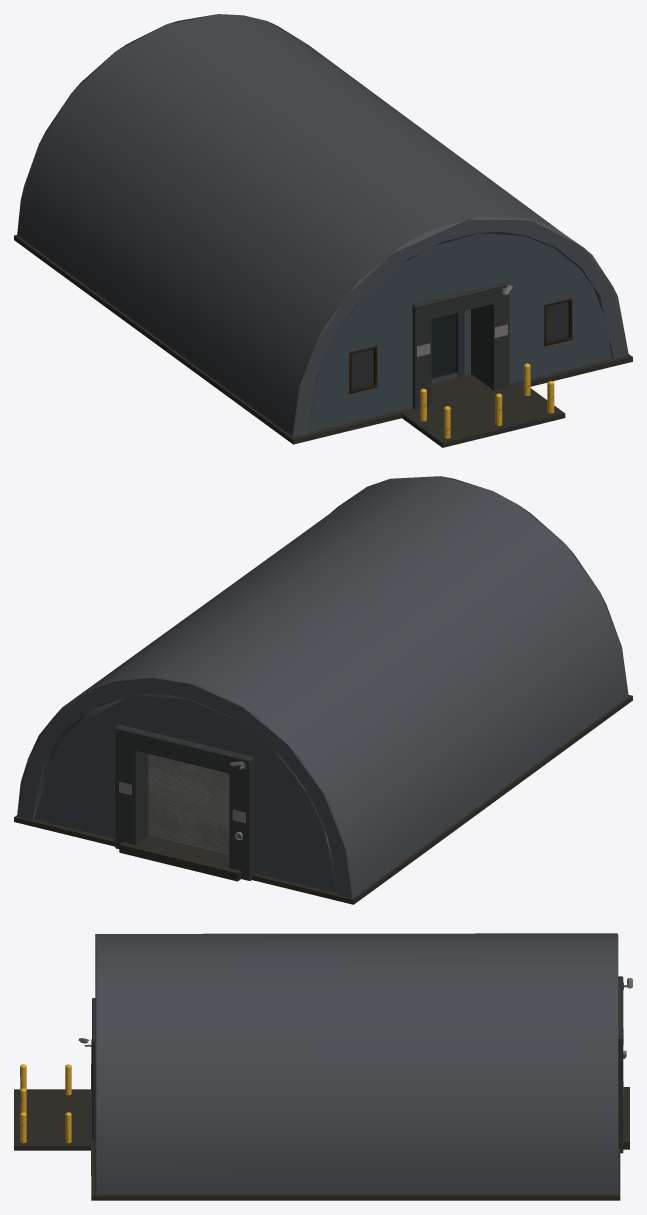
The model's file is barracks.lod0.glb.
3 views of the same model, one above another, from view 1: azimuth 30°, elevation 25°; view 2: azimuth 150°, elevation 25°; view 3: azimuth 270°, elevation 25° (orthographic). The views are drawn at different scales.
Parts seen in each view (by area): view 1: Object_7, Barricades_Barricades_map_0; view 2: Object_7, Object_13; view 3: Object_7, Barricades_Barricades_map_0.
Boxes of the visible parts, x1,y1,x2,y2 form: Object_7: (14, 14, 632, 447); Barricades_Barricades_map_0: (420, 363, 554, 438); Object_7: (14, 476, 632, 904); Object_13: (148, 754, 229, 854); Object_7: (14, 933, 632, 1200); Barricades_Barricades_map_0: (20, 1064, 71, 1143).
Size of the model in its own units: 11.75 by 5.96 by 19.58.
6 materials, 4 textured.
